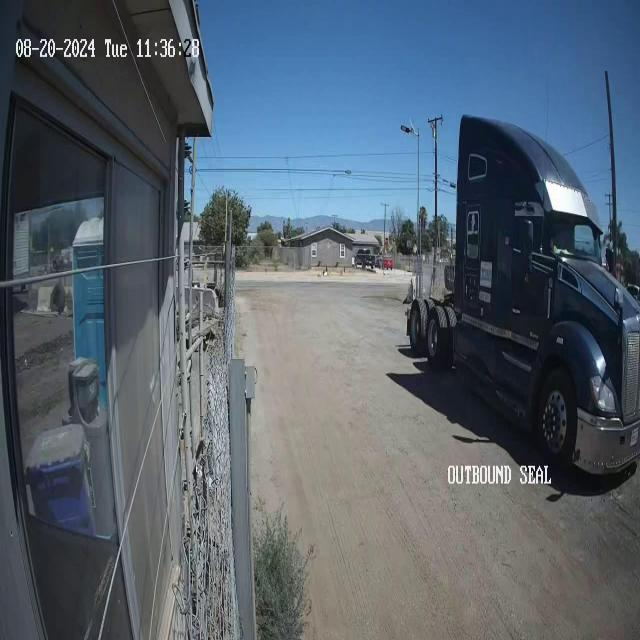TRUCK_IN: (405, 112, 639, 480)
